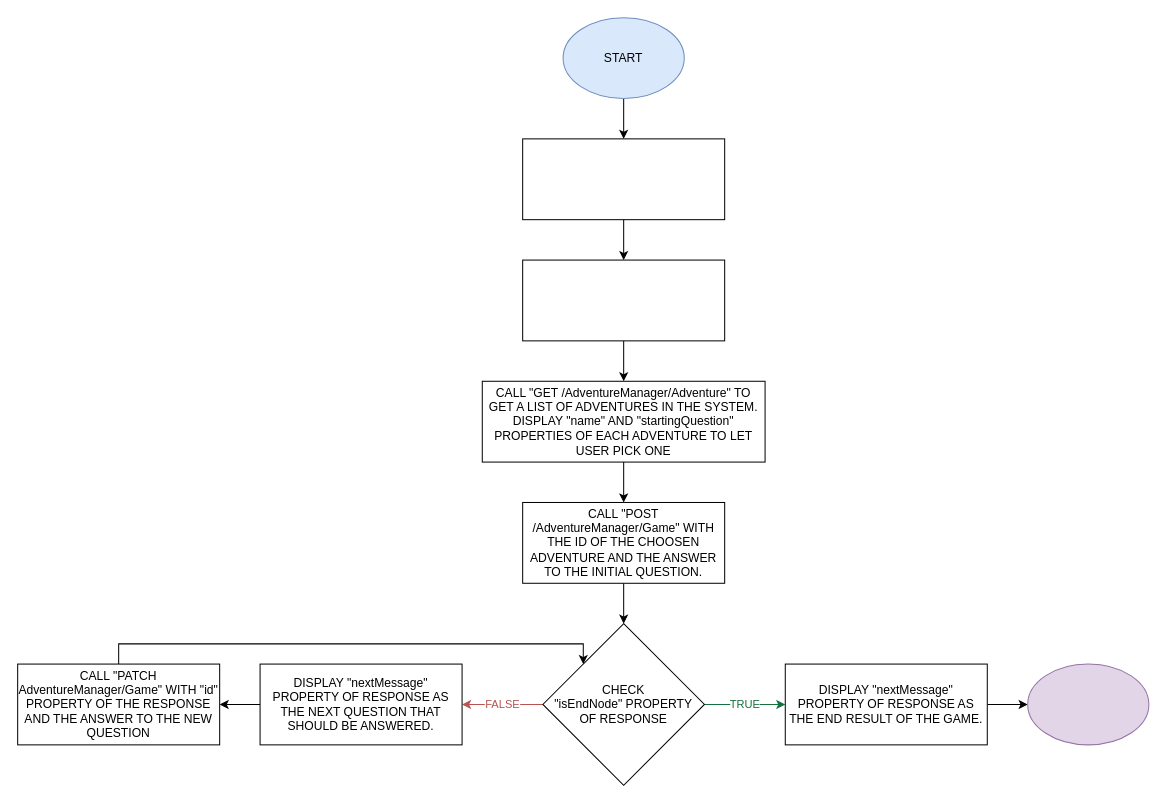
This 1167x803 diagram has some shape labels left out. Here are the shapes that lost their labels. From the top down, the centre of each, then its label:
(623,179): CALL "POST /UserManager/Token" WITH VALID USER CREDENTIALS
(623,300): SEND "token" PROPERTY OF RESPONSE IN SUBSEQUENT REQUESTS' AUTHORIZATION HEADERS
(1088,704): GAME IS FINISHED
